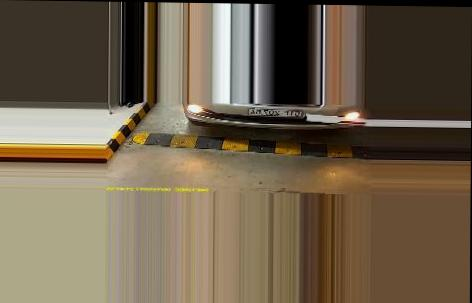License_Plate: (245, 105, 305, 121)
